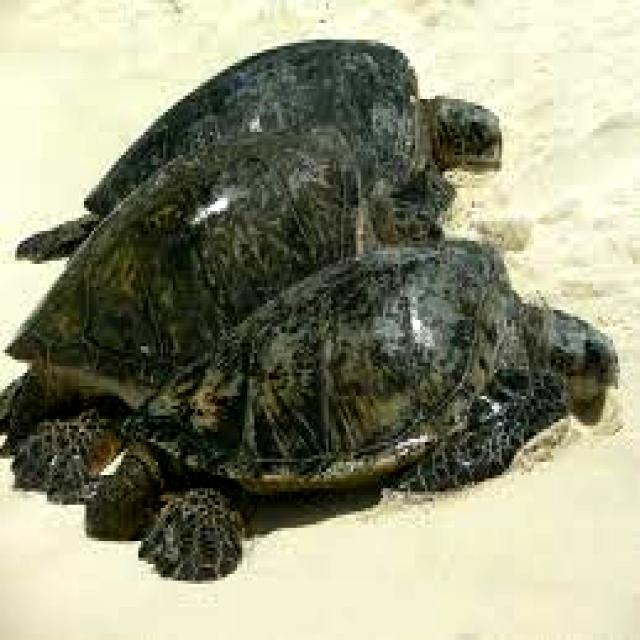Sea turtle: (59, 230, 626, 596), (0, 33, 514, 285)
